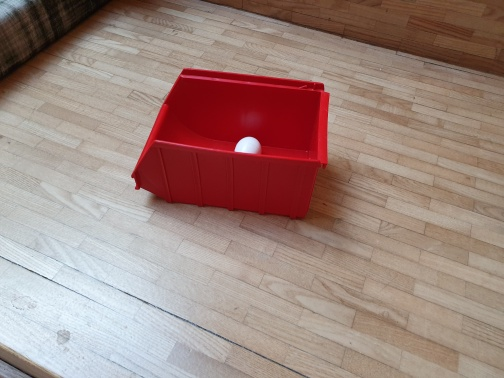egg: (233, 133, 263, 153)
tray_right: (131, 140, 329, 220)
